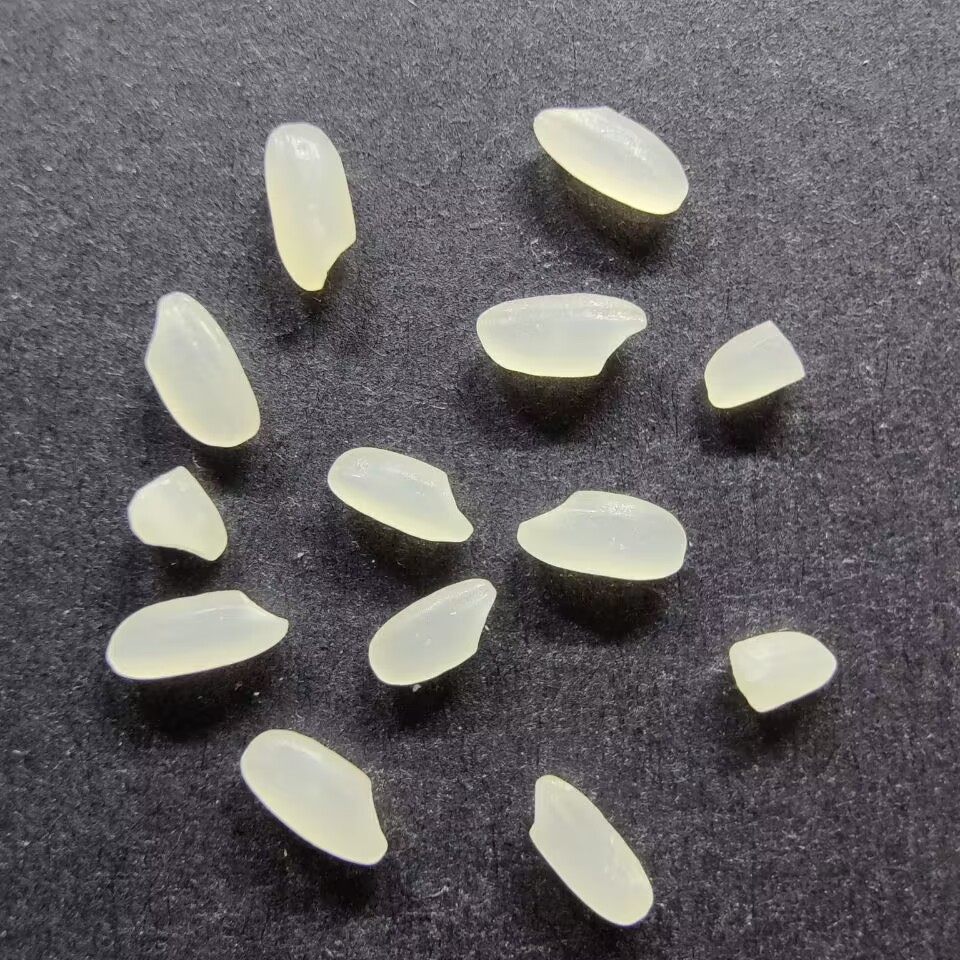broken: (125, 463, 229, 563), (701, 318, 807, 409), (727, 629, 838, 714)
rice: (237, 726, 389, 868), (526, 773, 654, 928), (142, 289, 262, 449), (531, 104, 690, 215), (104, 587, 289, 681), (261, 121, 357, 293), (515, 488, 687, 583), (325, 445, 476, 545), (474, 291, 647, 378), (367, 577, 497, 687)
